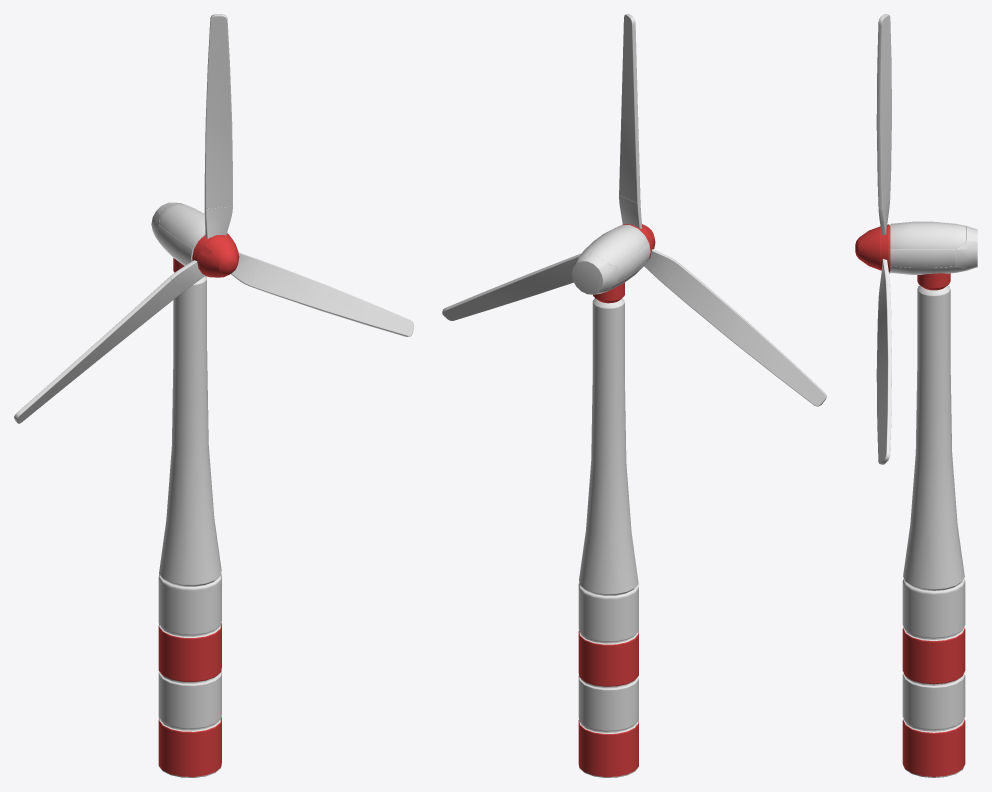
Rendered from 32 Windrad.fbx.
3 renders of one model, left to right at view 1: azimuth 30°, elevation 25°; view 2: azimuth 150°, elevation 25°; view 3: azimuth 270°, elevation 25°, orthographic. The views are drawn at different scales.
Visible parts, largest first — view 1: Windrad; view 2: Windrad; view 3: Windrad.
Part boxes in pixels (x1,y1,x2,y2): Windrad: (14,14,413,777); Windrad: (442,14,826,777); Windrad: (855,14,977,777).
Bounding box in the file's own units: 140 × 257 × 37.94.
